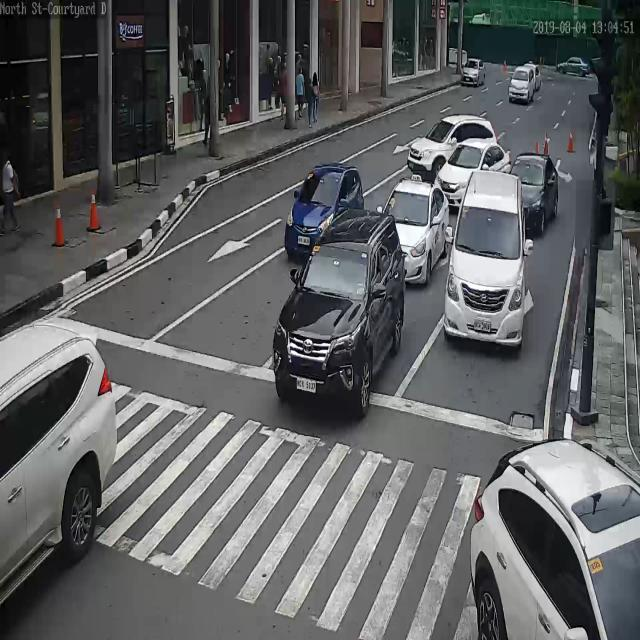car: (0, 303, 117, 640), (466, 436, 639, 640), (271, 217, 407, 412), (283, 162, 366, 256), (380, 177, 452, 284), (405, 117, 501, 178), (503, 151, 560, 231), (436, 139, 508, 198), (507, 66, 538, 105), (558, 55, 597, 78), (461, 59, 487, 87)
van: (442, 168, 525, 345)
